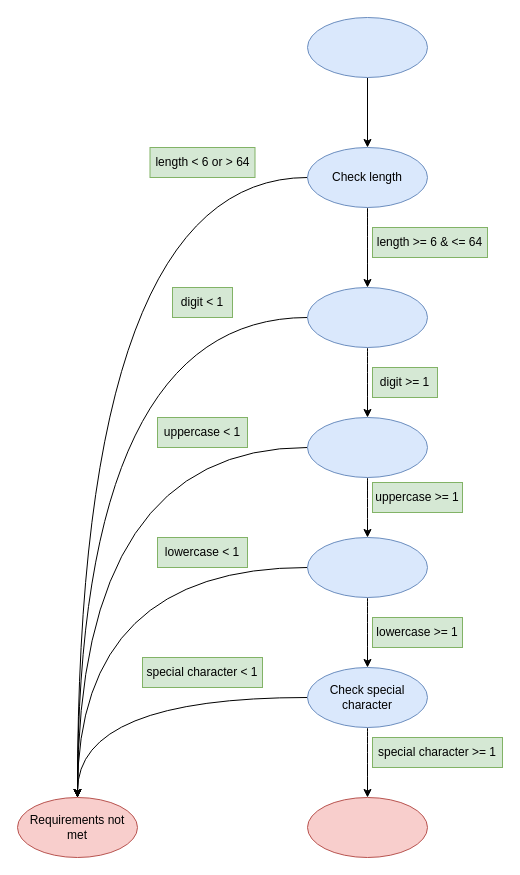
The diagram is 520 pixels wide and 875 high, and some of its shapes have lost their labels. Here are the shapes that lost their labels. From the top down, the box of each, then its label:
(306, 16, 428, 78): Enter password
(306, 286, 428, 348): Check digit
(306, 416, 428, 478): Check uppercase
(306, 536, 428, 598): Check lowercase
(306, 796, 428, 858): Successfully login
